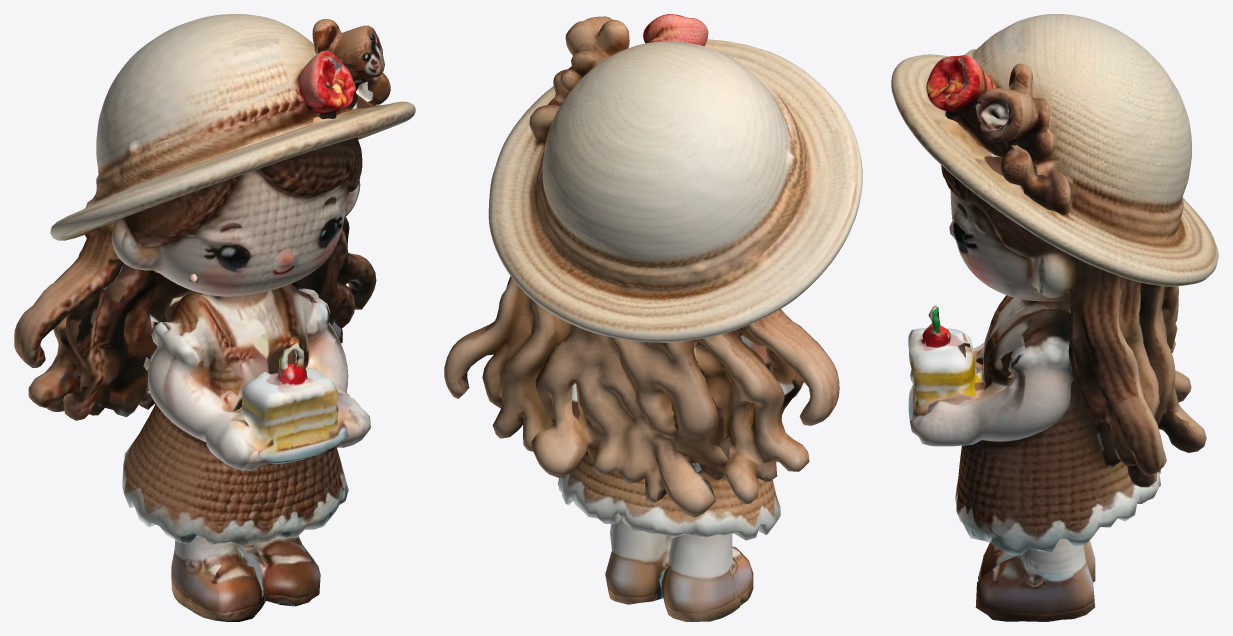
File: oh5diuuf.glb
3 renders of one model, left to right at view 1: azimuth 30°, elevation 25°; view 2: azimuth 150°, elevation 25°; view 3: azimuth 270°, elevation 25°, orthographic. The views are drawn at different scales.
Visible parts, largest first — view 1: Doll; view 2: Doll; view 3: Doll.
Boxes of the visible parts, x1,y1,x2,y2 form: Doll: (14, 14, 415, 621); Doll: (444, 14, 862, 621); Doll: (891, 14, 1218, 621).
Bounding box in the file's own units: 0.1734 × 0.25 × 0.1303.
1 material, 1 textured.
